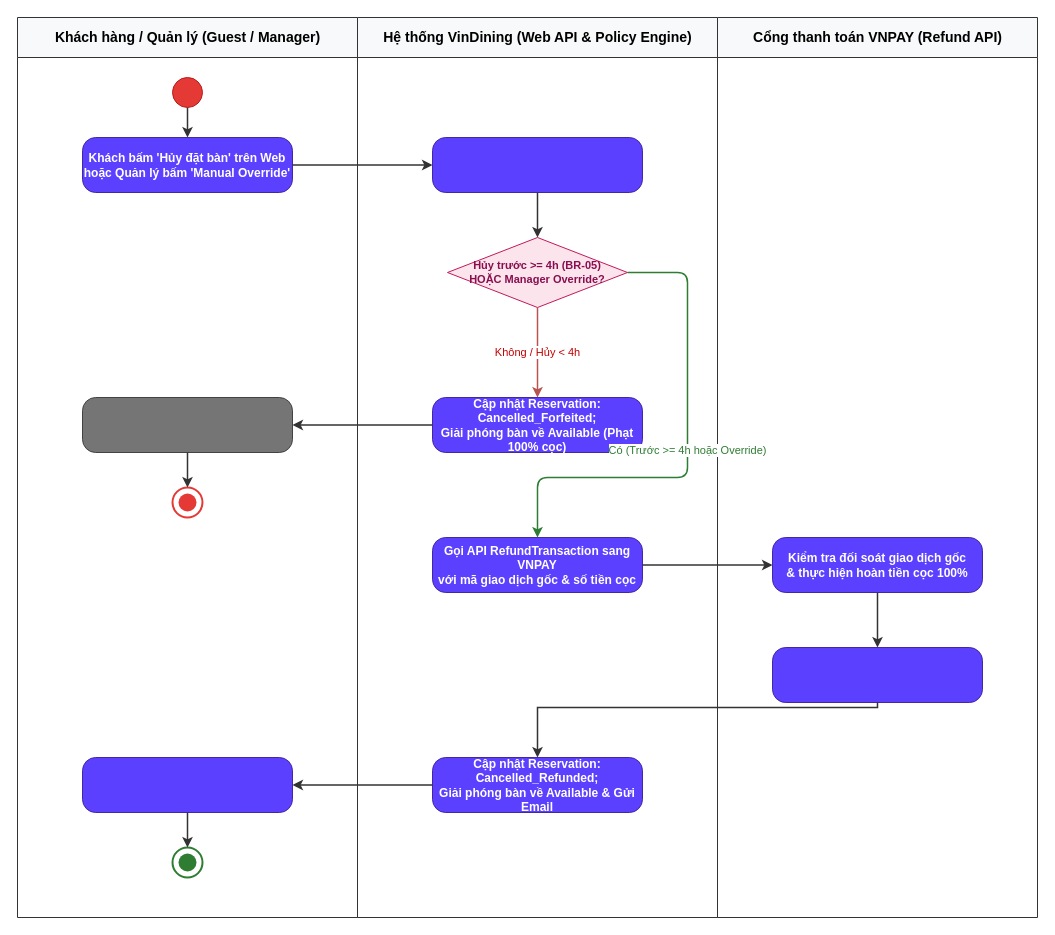
Image size: 1055x935. Some labels were removed from this diagram. The centre of each missing label's shape, as x and y in pixels:
"Kiểm tra thời gian hẹn & chính sách: DeltaTime = BookingTime - Now" goes at pixel 537 164.
"Nhận Email/SMS xác nhận hoàn cọc 100% & tiền hoàn về tài khoản ban đầu" goes at pixel 187 784.
"Nhận thông báo: Hủy bàn thành công, phạt 100% tiền cọc (Hủy dưới 4 tiếng)" goes at pixel 187 424.
"Trả về kết quả hoàn tiền thành công (RspCode = '00', RefundId)" goes at pixel 877 674.
